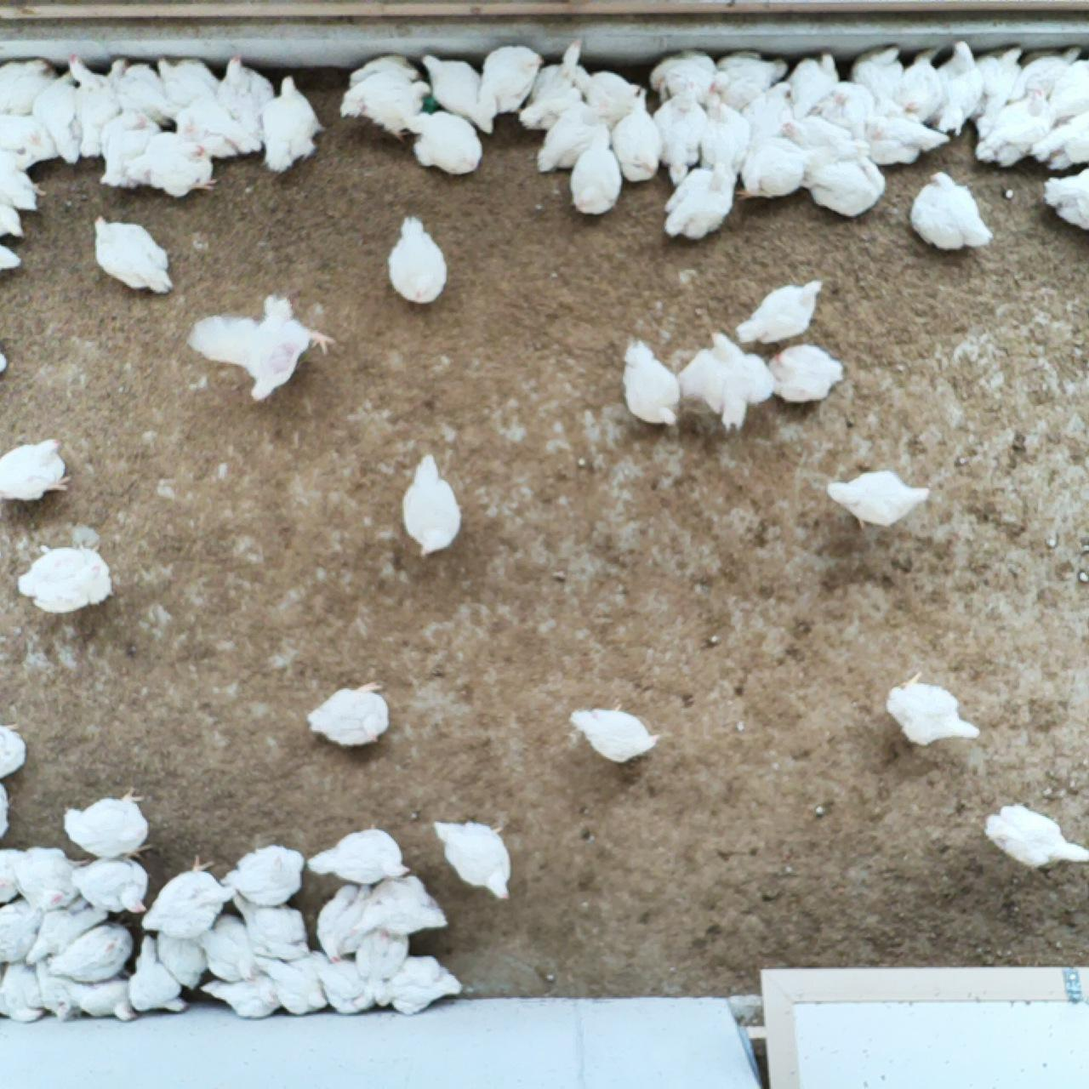chicken: (189, 290, 335, 404), (677, 329, 776, 435), (138, 852, 238, 938), (969, 85, 1060, 178), (90, 209, 176, 301), (856, 94, 957, 170), (429, 814, 512, 904), (260, 73, 331, 178), (13, 542, 111, 618), (887, 672, 983, 748), (984, 800, 1089, 869), (907, 169, 993, 253), (399, 452, 465, 561), (516, 37, 591, 132), (659, 154, 741, 240), (61, 787, 156, 861), (168, 96, 269, 164), (228, 886, 316, 963), (827, 468, 931, 532), (63, 54, 124, 160), (798, 142, 885, 215), (732, 279, 825, 347), (421, 53, 499, 134), (306, 826, 411, 886), (339, 69, 430, 138), (353, 874, 450, 938), (305, 676, 391, 748), (387, 214, 455, 305), (735, 127, 814, 205), (131, 126, 215, 198), (921, 38, 982, 137), (127, 931, 196, 1018), (703, 46, 790, 115), (24, 898, 106, 969), (48, 919, 137, 984), (652, 85, 706, 192), (68, 853, 152, 921), (694, 80, 750, 182), (621, 336, 683, 428), (537, 102, 611, 178), (371, 954, 464, 1014), (567, 708, 663, 766), (314, 880, 380, 964), (220, 846, 307, 909), (254, 948, 332, 1018), (12, 844, 91, 913), (474, 43, 542, 123), (764, 342, 846, 408), (631, 48, 719, 109), (218, 57, 276, 149), (199, 910, 269, 986), (566, 122, 621, 218), (107, 57, 178, 131), (964, 42, 1028, 124), (610, 90, 664, 186), (570, 61, 644, 131), (30, 67, 81, 167), (407, 105, 483, 172), (0, 435, 75, 499), (1009, 43, 1084, 106), (101, 111, 160, 191), (157, 55, 226, 123), (307, 948, 375, 1016), (1030, 106, 1089, 183), (57, 969, 135, 1025), (151, 924, 214, 993), (1035, 54, 1089, 133), (197, 974, 284, 1023), (847, 42, 905, 114), (784, 52, 845, 120), (736, 79, 795, 149), (814, 77, 872, 146), (340, 52, 423, 99), (895, 45, 943, 120), (1042, 162, 1089, 238), (0, 56, 55, 120), (0, 112, 58, 172), (357, 927, 409, 990), (30, 959, 80, 1024), (0, 950, 43, 1025), (780, 113, 853, 157), (0, 892, 42, 964), (0, 149, 45, 213), (0, 844, 30, 904), (0, 721, 26, 777), (0, 197, 26, 242), (0, 781, 12, 838), (0, 239, 21, 271), (455, 328, 455, 329)
